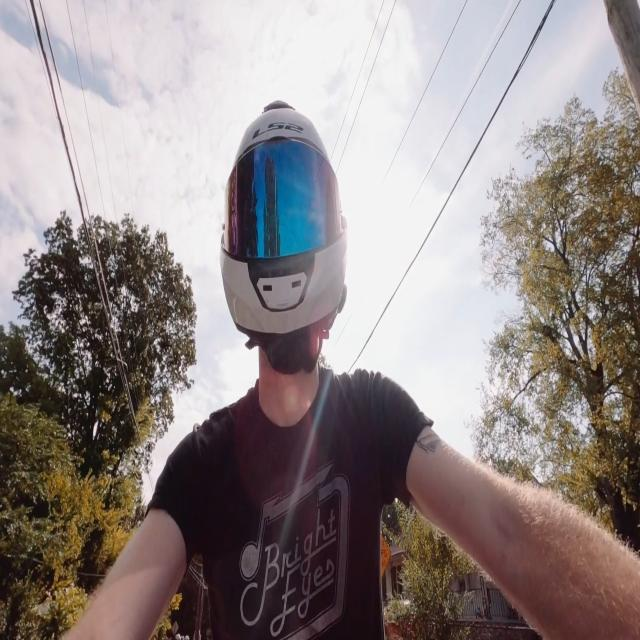Helmet_Wearer: (210, 81, 358, 432)
Person: (69, 105, 549, 640)
